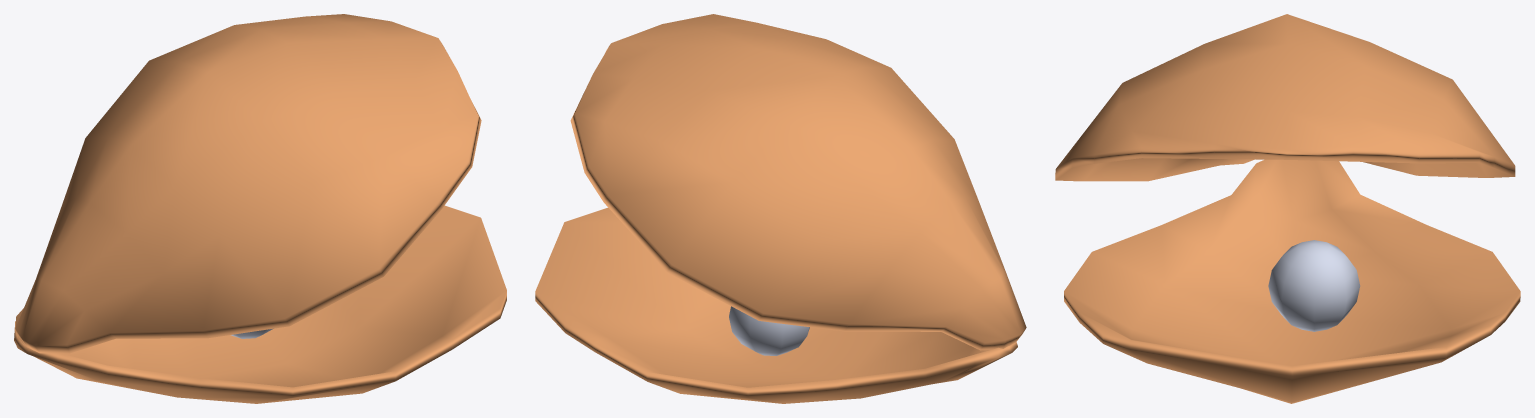
File: Concha 1.fbx
3 views of the same model, side by side, from view 1: azimuth 30°, elevation 25°; view 2: azimuth 150°, elevation 25°; view 3: azimuth 270°, elevation 25° (orthographic). The views are drawn at different scales.
Parts seen in each view (by area): view 1: ConchaUpper, ConchaLower; view 2: ConchaUpper, ConchaLower, Perola; view 3: ConchaLower, ConchaUpper, Perola.
Boxes of the visible parts, box(x1,y1,x2,y2) form: ConchaUpper: box(15, 14, 481, 353); ConchaLower: box(14, 205, 506, 403); ConchaUpper: box(570, 14, 1026, 350); ConchaLower: box(535, 207, 1017, 403); Perola: box(729, 306, 809, 355); ConchaLower: box(1064, 159, 1520, 403); ConchaUpper: box(1055, 14, 1515, 181); Perola: box(1268, 240, 1360, 331).
Size of the model in its own units: 1035 by 707 by 891.
